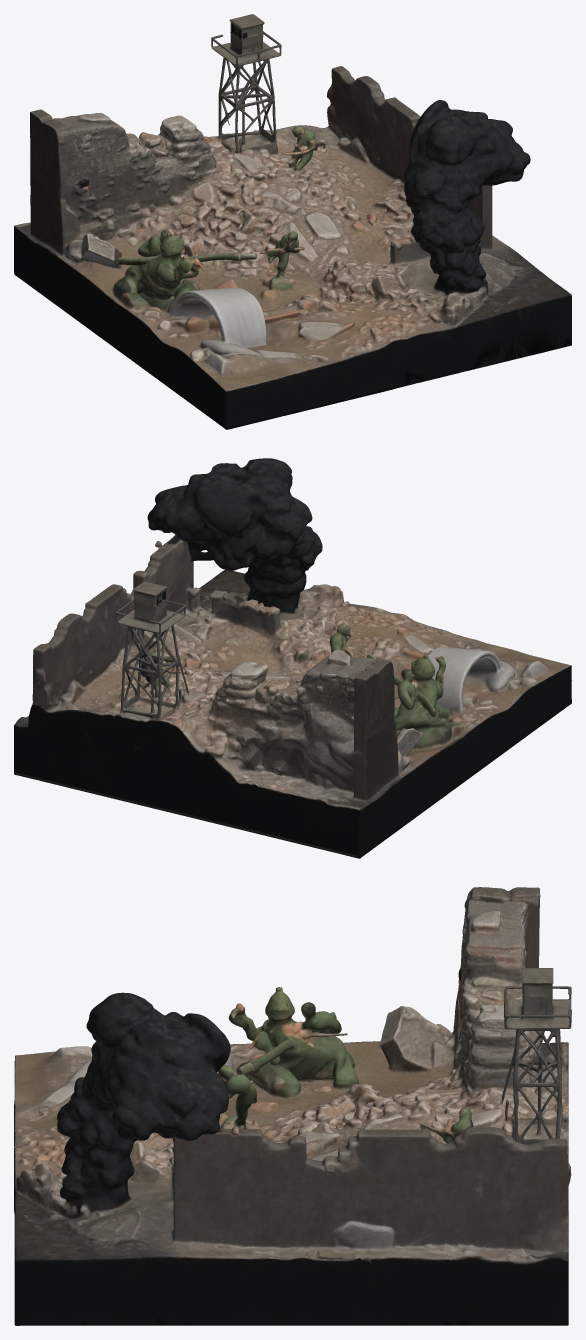
The model's file is mat_tran_quang_tri.glb.
3 renders of one model, top to bottom at view 1: azimuth 30°, elevation 25°; view 2: azimuth 150°, elevation 25°; view 3: azimuth 270°, elevation 25°, orthographic. The views are drawn at different scales.
Bounding box in the file's own units: 1.8 × 1.03 × 1.89.
1 material, 1 textured.
